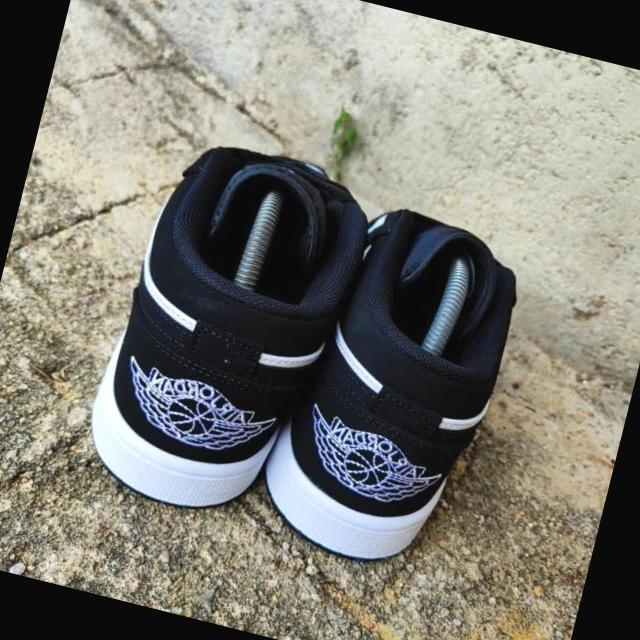nike_fake_jordan: (71, 129, 372, 540), (242, 188, 532, 586)
